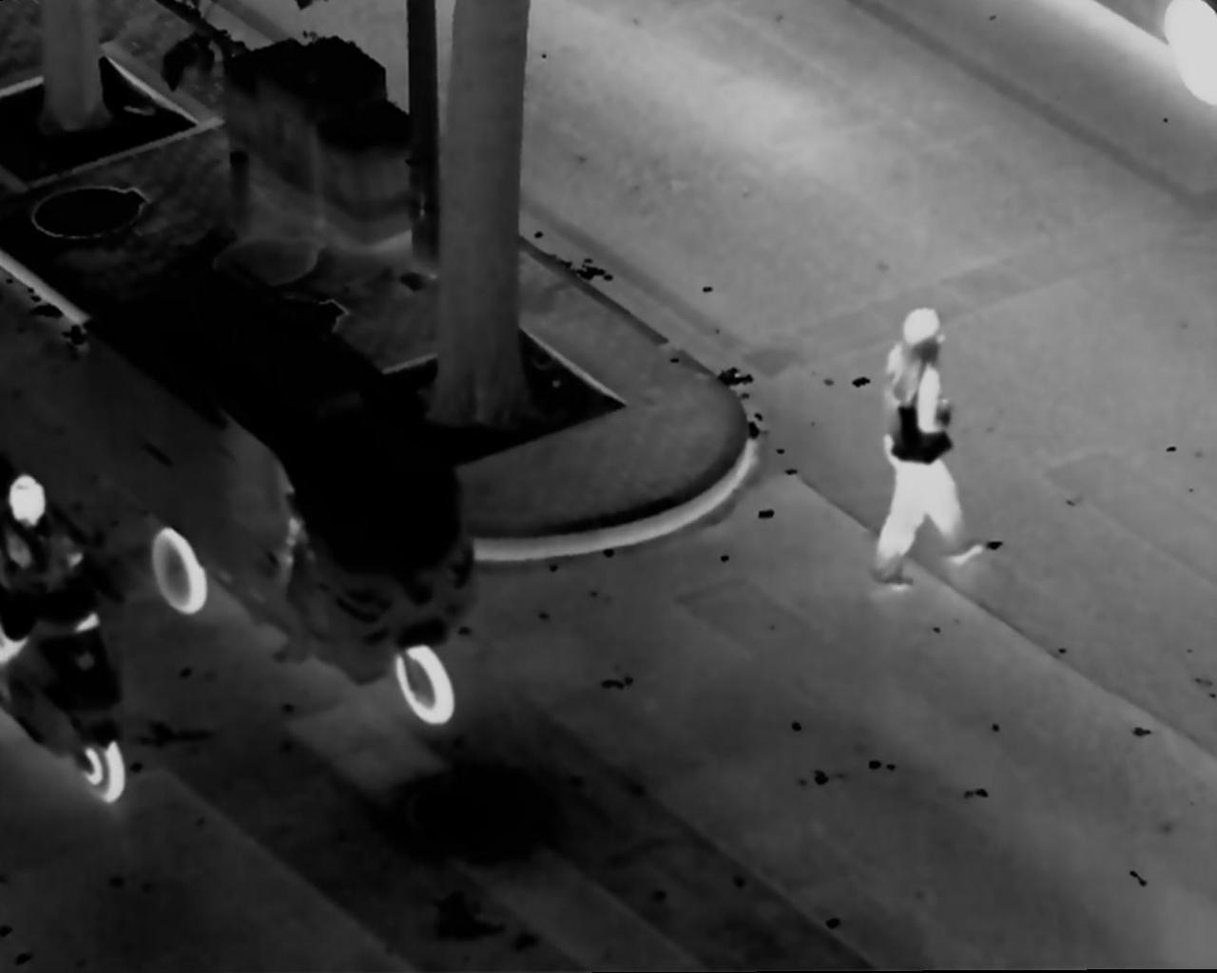person: (873, 304, 982, 587), (3, 467, 77, 702)
